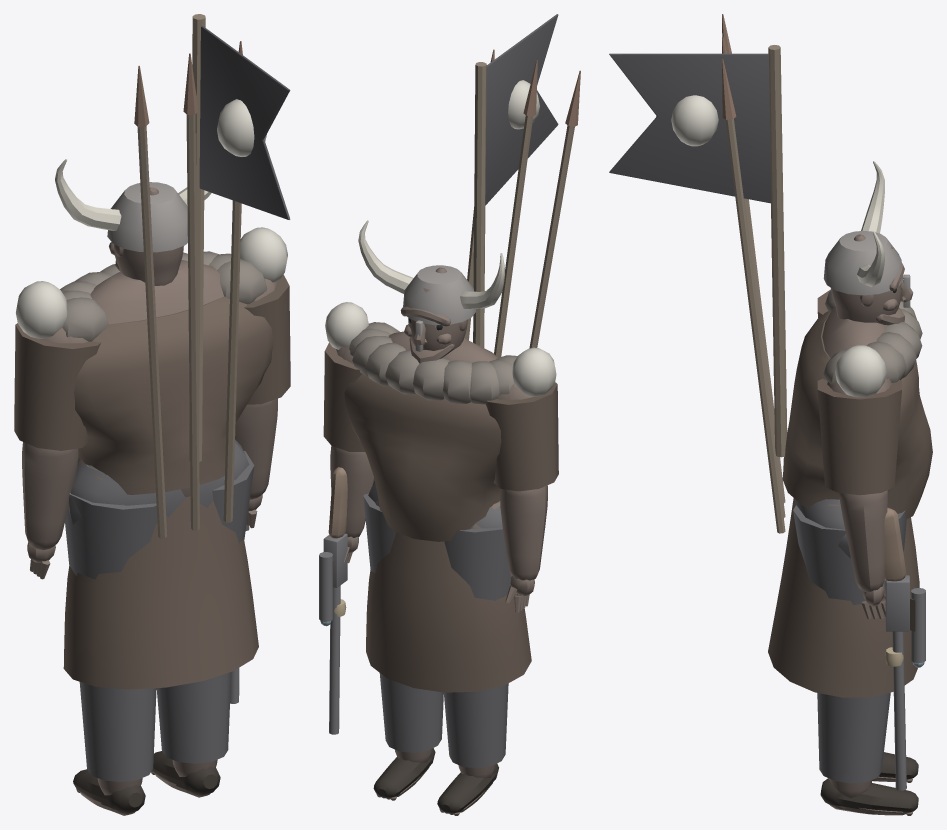
Rendered from en_boss_warlord.gltf.
3 renders of one model, left to right at view 1: azimuth 30°, elevation 25°; view 2: azimuth 150°, elevation 25°; view 3: azimuth 270°, elevation 25°, orthographic. The views are drawn at different scales.
Parts seen in each view (by area): view 1: Spine, Hips, V1_Flag, V3_Spears, ShinL, ShinR, ArmL, Head, LegL, ForeL, V2_Skulls, ForeR (+2 smaller); view 2: Spine, Hips, V1_Flag, ForeR, Head, ShinL, ArmL, ShinR, V3_Spears, ForeL, LegL, V2_Skulls (+2 smaller); view 3: V1_Flag, Hips, Spine, ForeR, ShinR, ArmR, Head, V3_Spears, LegR, V2_Skulls, ShinL.
Boxes of the visible parts, x1,y1,x2,y2 form: Spine: [41, 251, 276, 497]; Hips: [63, 439, 258, 689]; V1_Flag: [189, 14, 290, 461]; V3_Spears: [134, 41, 242, 538]; ShinL: [73, 682, 156, 815]; ShinR: [151, 672, 231, 797]; ArmL: [14, 323, 101, 450]; Head: [55, 159, 211, 285]; LegL: [65, 459, 157, 579]; ForeL: [22, 442, 78, 579]; V2_Skulls: [16, 227, 287, 338]; ForeR: [230, 398, 277, 703]; Spine: [336, 322, 532, 541]; Hips: [366, 481, 531, 692]; V1_Flag: [473, 14, 558, 347]; ForeR: [319, 446, 374, 734]; Head: [358, 220, 504, 351]; ShinL: [437, 683, 508, 815]; ArmL: [486, 382, 558, 491]; ShinR: [373, 673, 443, 800]; V3_Spears: [464, 49, 580, 357]; ForeL: [500, 485, 547, 612]; LegL: [444, 502, 511, 600]; V2_Skulls: [325, 302, 556, 396]; V1_Flag: [609, 45, 787, 457]; Hips: [768, 498, 919, 697]; Spine: [782, 290, 932, 518]; ForeR: [839, 490, 925, 790]; ShinR: [817, 692, 918, 815]; ArmR: [817, 377, 901, 495]; Head: [823, 161, 913, 324]; V3_Spears: [722, 14, 785, 533]; LegR: [793, 499, 906, 604]; V2_Skulls: [835, 345, 886, 397]; ShinL: [872, 752, 918, 782].
Size of the model in its own units: 0.8112 by 2.39 by 0.9367.
